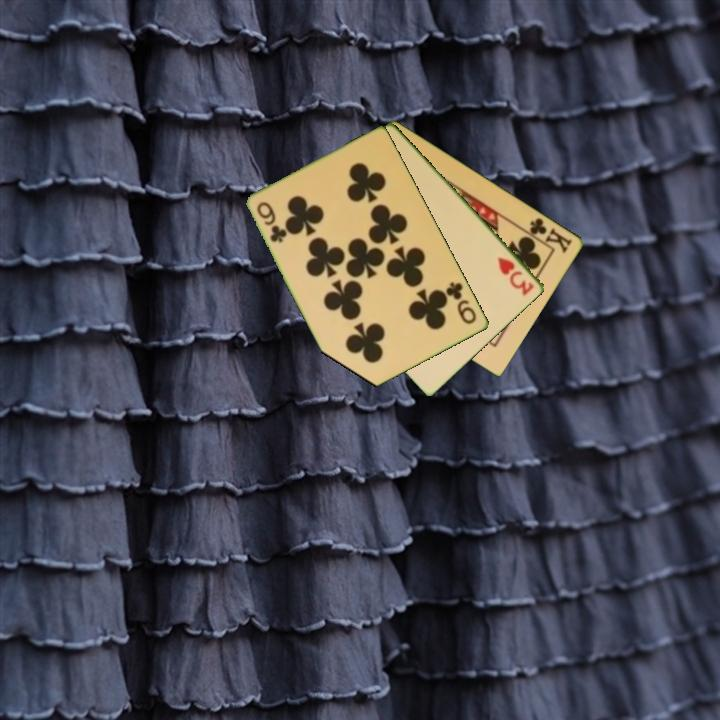3h: (494, 253, 537, 299)
9c: (442, 278, 480, 327), (253, 198, 289, 246)
Kc: (520, 214, 576, 256)
